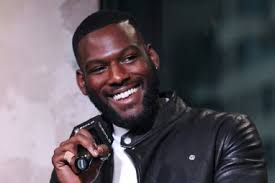black_male: (63, 12, 173, 123)
